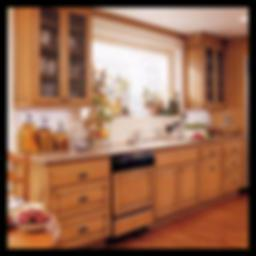Electrodomestico: (111, 157, 154, 230)
Lavaplatos: (127, 127, 173, 151)
